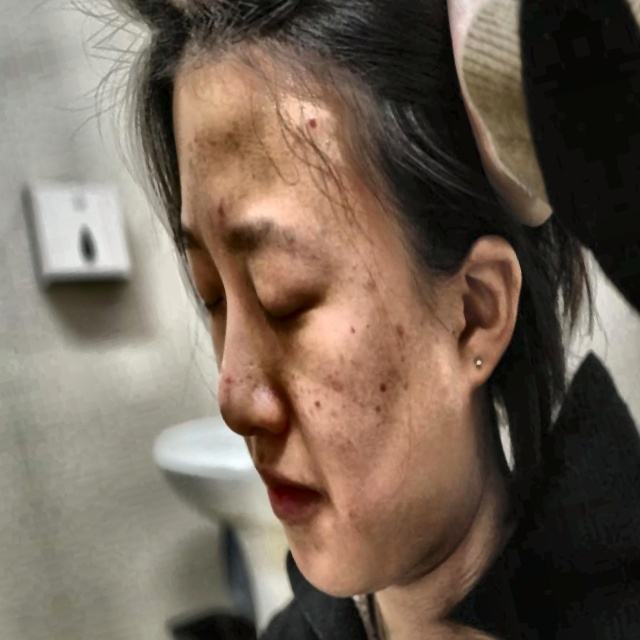comedone: (300, 101, 333, 153), (393, 322, 416, 356), (211, 201, 230, 222)
